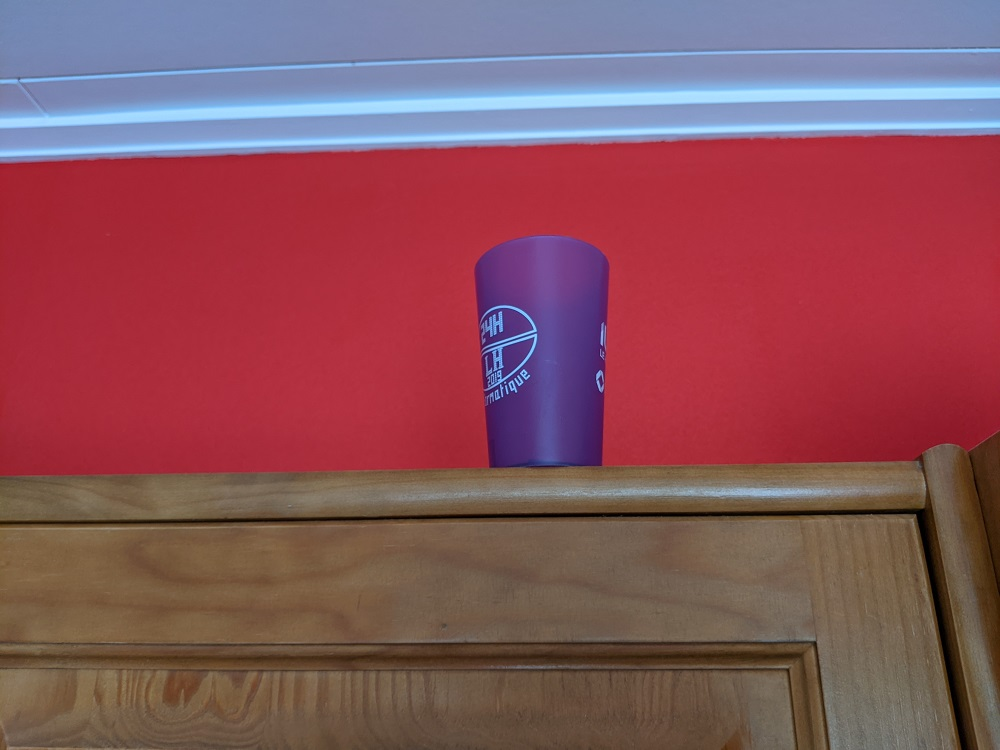ecocup: (474, 234, 610, 468)
